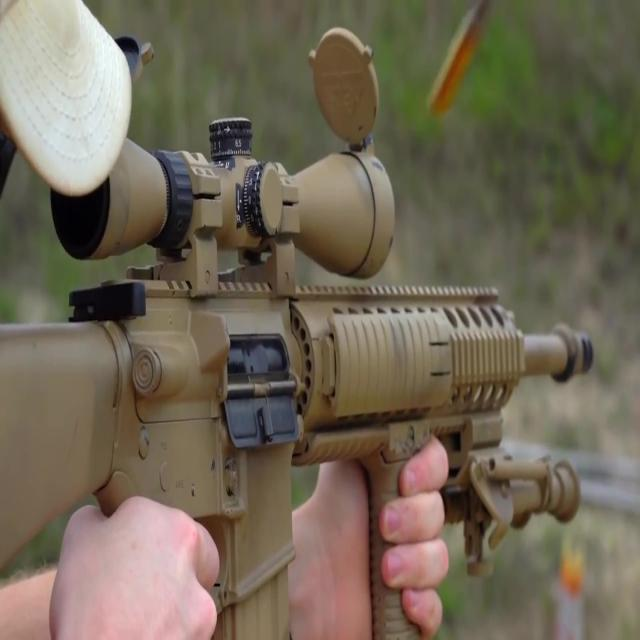Weapon: (8, 21, 600, 640)
